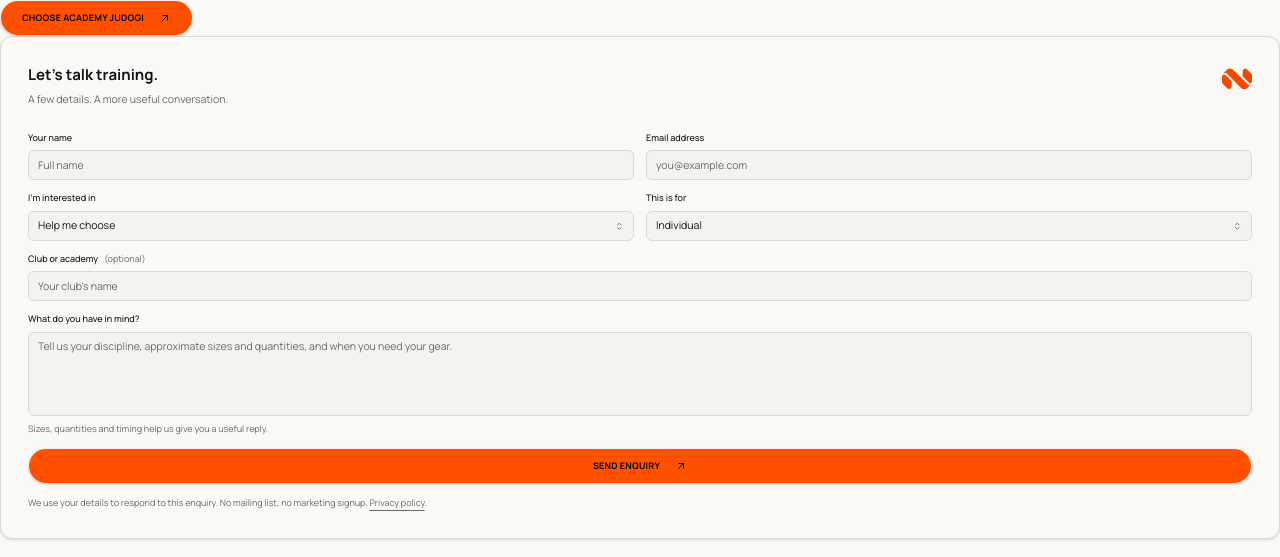
inline enquiry form › prefills gear and academy selections from page links
The image size is (1280, 557).
Step 1. Click the link "Choose academy judogi" → (96, 18), box [0,0,193,36]
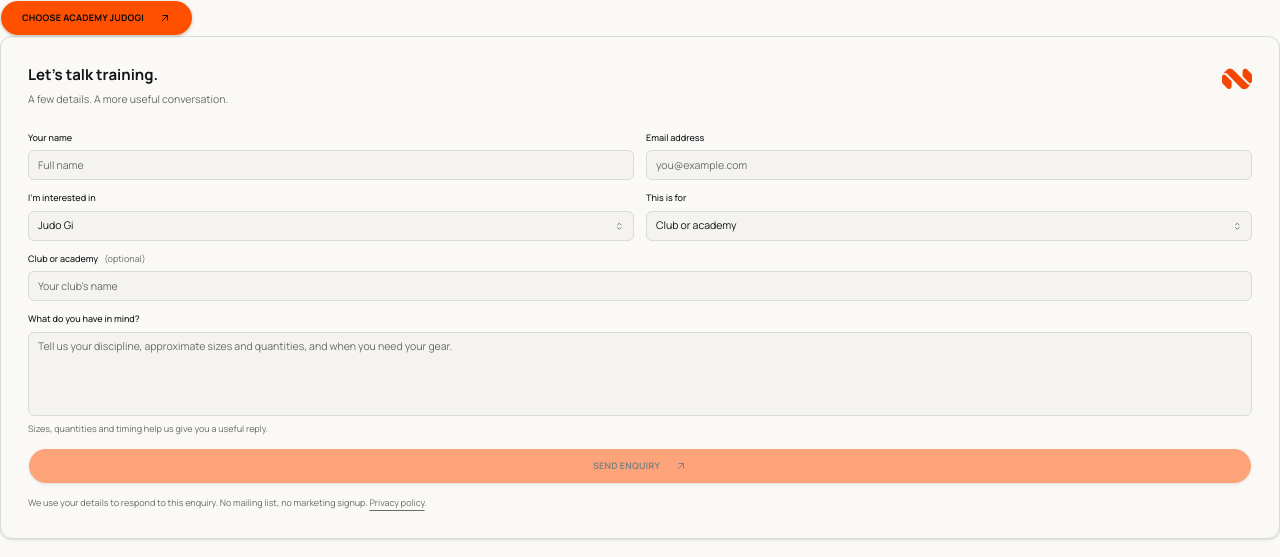
Now the dropdown named "I’m interested in" shows "Judo Gi", box [28,211,634,241]
Now the dropdown named "This is for" shows "Club or academy", box [646,211,1252,241]
